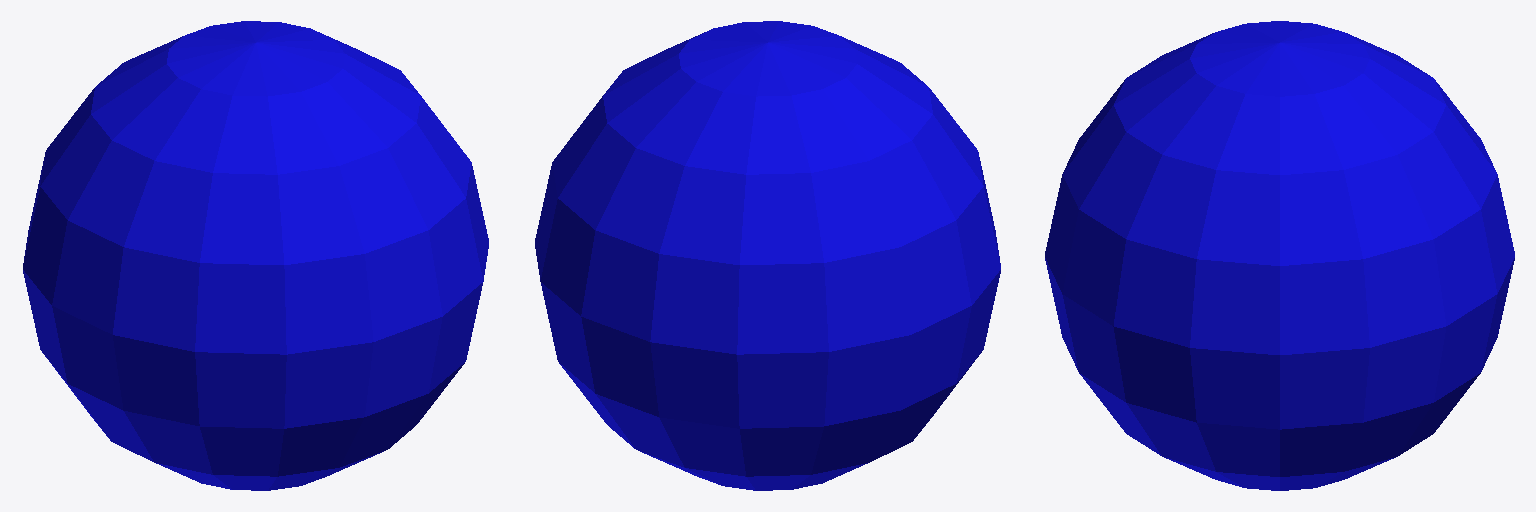
The model's file is ballblue.obj.
The picture shows the model from 3 angles: view 1: azimuth 30°, elevation 25°; view 2: azimuth 150°, elevation 25°; view 3: azimuth 270°, elevation 25°; orthographic projection.
Parts seen in each view (by area): view 1: Sphere; view 2: Sphere; view 3: Sphere.
Part boxes in pixels (x1,y1,x2,y2): Sphere: (23,21,488,490); Sphere: (535,21,1000,490); Sphere: (1045,21,1514,490).
Size of the model in its own units: 2 by 2 by 2.